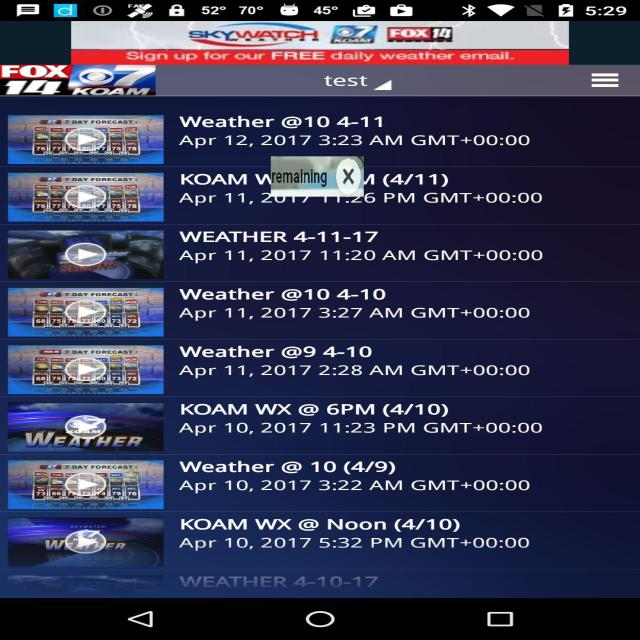misdirection: (271, 156, 364, 197)
